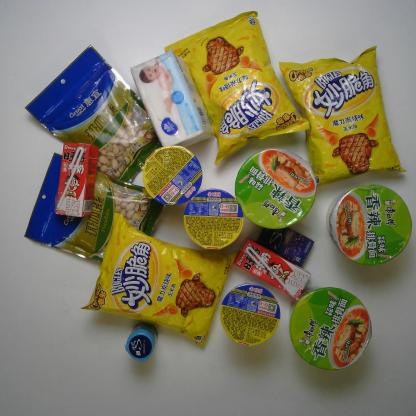Dried Fruit: (25, 43, 166, 186), (23, 151, 166, 268)
Gum: (255, 220, 315, 266), (124, 324, 158, 362)
Instant Noodles: (290, 287, 372, 370), (328, 184, 412, 265), (237, 149, 317, 230), (142, 144, 203, 208), (181, 188, 245, 247), (221, 283, 280, 347)
Milk: (235, 238, 312, 299), (53, 142, 100, 218)
Puffed Food: (162, 9, 312, 162), (81, 214, 237, 348), (278, 45, 410, 188)
Tissue: (128, 50, 215, 150)
